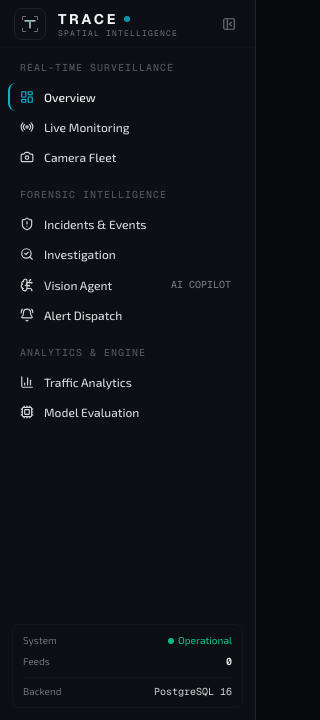
Test: Sidebar › collapsed rail mode › expands again from the rail via the same toggle
Step 1. Click the button named "Collapse sidebar" → (229, 24), box [217,12,241,36]
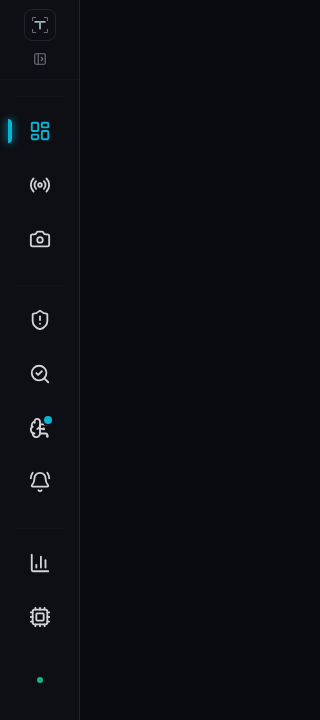
Step 2. Click the button named "Expand sidebar" → (40, 58), box [28,46,52,70]
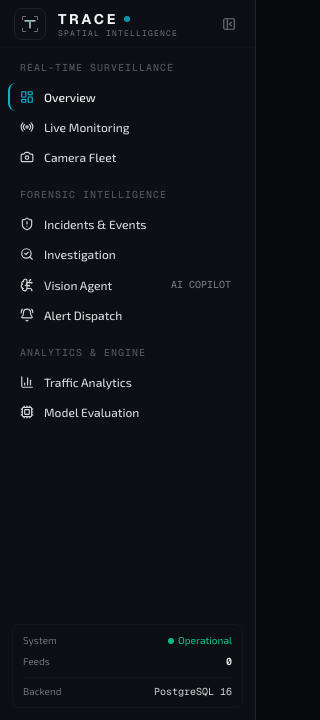
Result: the text "Overview" is shown at [44,89,96,105]
